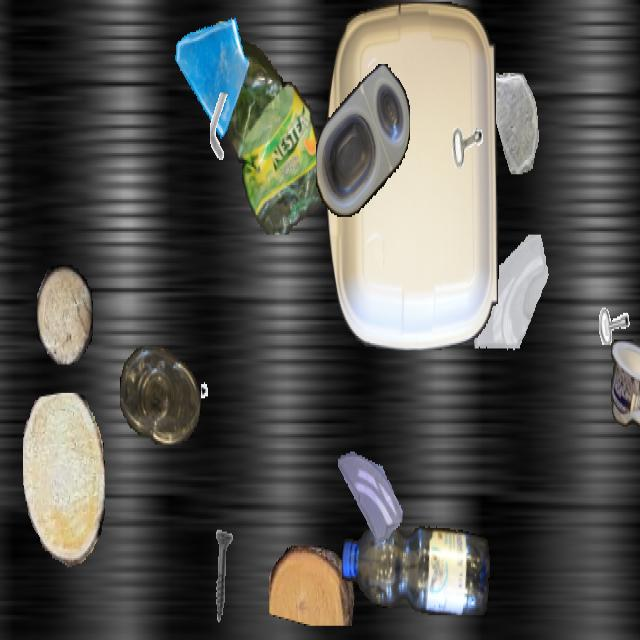glass: (472, 234, 554, 380), (171, 2, 249, 140), (338, 441, 402, 555), (484, 73, 540, 172)
metal: (433, 73, 493, 179), (194, 528, 250, 628), (589, 265, 633, 343), (200, 92, 240, 164), (201, 366, 239, 434), (634, 2, 640, 94)
plastic: (326, 2, 498, 350), (196, 21, 326, 235), (316, 64, 410, 217), (342, 519, 490, 615), (120, 347, 200, 442), (611, 340, 640, 460)
wood: (23, 393, 105, 567), (269, 546, 355, 624), (37, 265, 93, 364)
